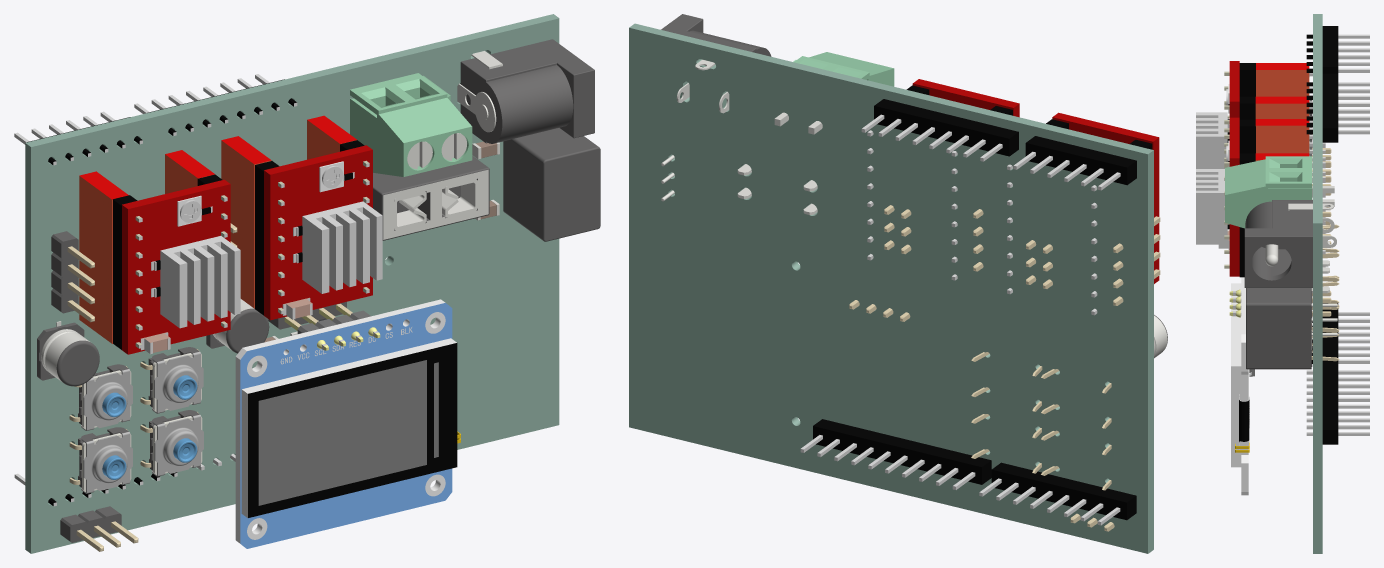
Rendered from PCB-MTD2.gltf.
The picture shows the model from 3 angles, left to right: view 1: azimuth 30°, elevation 25°; view 2: azimuth 150°, elevation 25°; view 3: azimuth 270°, elevation 25°; orthographic projection. The views are drawn at different scales.
Visible parts, largest first — view 1: PCB-MTD_PCB, ER-TFT1.14-1, Arduino Uno CNC Shield V3.step[60], Arduino Uno CNC Shield V3.step[71], PCBï¿½ï¿½, SW_Tactile_Straight_KSA0Axx1LFTR_3, Arduino Uno CNC Shield V3.step[44] (×4), BarrelJack_Horizontal (×2), TerminalBlock_Phoenix_MKDS-1,5-2-5.08_1x02_P5.08mm_Horizonta, Converter_DCDC_RECOM_R_78E_05_THT, A_Keystone_3568, CP_Elec_63x54_1 (+4 smaller); view 2: PCB-MTD_PCB, Arduino Uno CNC Shield V3.step[21] (×2), Arduino Uno CNC Shield V3.step[4], Arduino Uno CNC Shield V3.step[22], Arduino Uno CNC Shield V3.step[60], TerminalBlock_Phoenix_MKDS-1,5-2-5.08_1x02_P5.08mm_Horizonta, Arduino Uno CNC Shield V3.step[71], BarrelJack_Horizontal, SW_Tactile_Straight_KSA0Axx1LFTR_3, PinHeader_1x04_P254mm_Vertical_2, PinHeader_2x03_P254mm_Vertical; view 3: BarrelJack_Horizontal (×3), Converter_DCDC_RECOM_R_78E_05_THT, Arduino Uno CNC Shield V3.step[44] (×4), PCB-MTD_PCB, Arduino Uno CNC Shield V3.step[71], Arduino Uno CNC Shield V3.step[21] (×2), TerminalBlock_Phoenix_MKDS-1,5-2-5.08_1x02_P5.08mm_Horizonta, Arduino Uno CNC Shield V3.step[60], Arduino Uno CNC Shield V3.step[4], ER-TFT1.14-1, Arduino Uno CNC Shield V3.step[22], PCBï¿½ï¿½ (+3 smaller).
Boxes of the visible parts, x1,y1,x2,y2 form: PCB-MTD_PCB: (25,14,559,553); ER-TFT1.14-1: (241,338,460,517); Arduino Uno CNC Shield V3.step[60]: (113,174,240,354); Arduino Uno CNC Shield V3.step[71]: (255,140,382,320); PCBï¿½ï¿½: (235,299,452,548); SW_Tactile_Straight_KSA0Axx1LFTR_3: (69,347,203,493); Arduino Uno CNC Shield V3.step[44] (×4): (79,115,356,343); BarrelJack_Horizontal (×2): (457,39,594,143); TerminalBlock_Phoenix_MKDS-1,5-2-5.08_1x02_P5.08mm_Horizonta: (350,73,472,176); Converter_DCDC_RECOM_R_78E_05_THT: (503,128,600,241); A_Keystone_3568: (373,156,489,240); CP_Elec_63x54_1: (37,299,269,386); PCB-MTD_PCB: (629,23,1153,553); Arduino Uno CNC Shield V3.step[21] (×2): (861,99,1136,525); Arduino Uno CNC Shield V3.step[4]: (800,419,991,489); Arduino Uno CNC Shield V3.step[22]: (1013,136,1136,190); Arduino Uno CNC Shield V3.step[60]: (1046,112,1159,283); TerminalBlock_Phoenix_MKDS-1,5-2-5.08_1x02_P5.08mm_Horizonta: (774,52,894,134); Arduino Uno CNC Shield V3.step[71]: (906,79,1019,117); BarrelJack_Horizontal: (661,14,771,56); SW_Tactile_Straight_KSA0Axx1LFTR_3: (971,352,1111,490); PinHeader_1x04_P254mm_Vertical_2: (849,209,1160,321); PinHeader_2x03_P254mm_Vertical: (884,205,1052,288); BarrelJack_Horizontal (×3): (1244,200,1334,287); Converter_DCDC_RECOM_R_78E_05_THT: (1246,288,1337,369); Arduino Uno CNC Shield V3.step[44] (×4): (1255,63,1325,267); PCB-MTD_PCB: (1313,14,1322,553); Arduino Uno CNC Shield V3.step[71]: (1196,117,1255,277); Arduino Uno CNC Shield V3.step[21] (×2): (1306,73,1369,363); TerminalBlock_Phoenix_MKDS-1,5-2-5.08_1x02_P5.08mm_Horizonta: (1225,156,1334,228); Arduino Uno CNC Shield V3.step[60]: (1196,61,1255,168); Arduino Uno CNC Shield V3.step[4]: (1306,361,1369,444); ER-TFT1.14-1: (1231,283,1249,467); Arduino Uno CNC Shield V3.step[22]: (1306,26,1369,73); PCBï¿½ï¿½: (1241,277,1248,495).
Bounding box in the file's own units: 0.0783 × 0.0582 × 0.0275.
